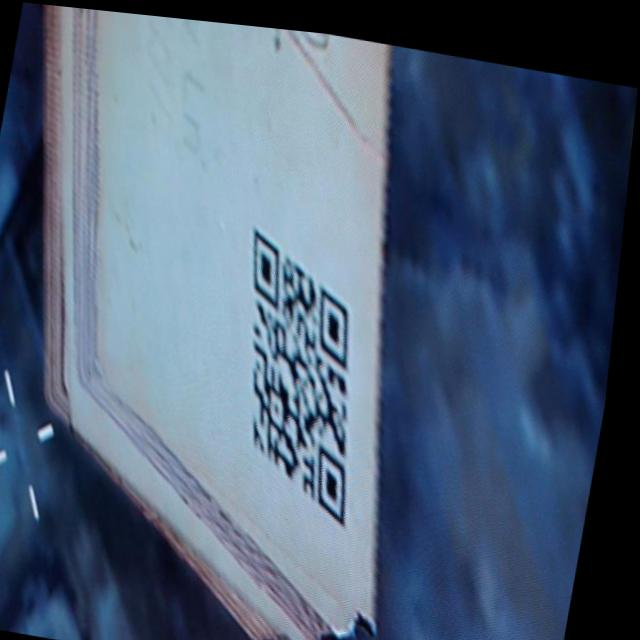qrcode: (216, 222, 398, 520)
